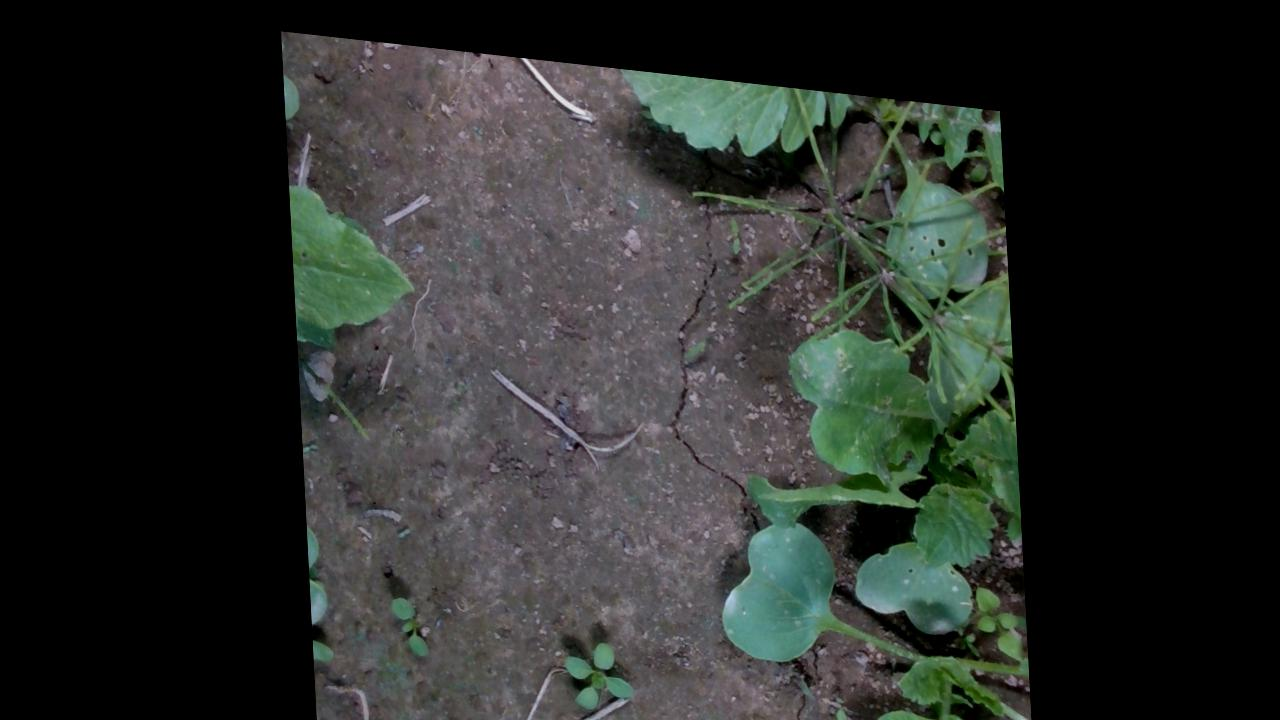weed: (553, 622, 632, 702), (383, 584, 426, 647)
